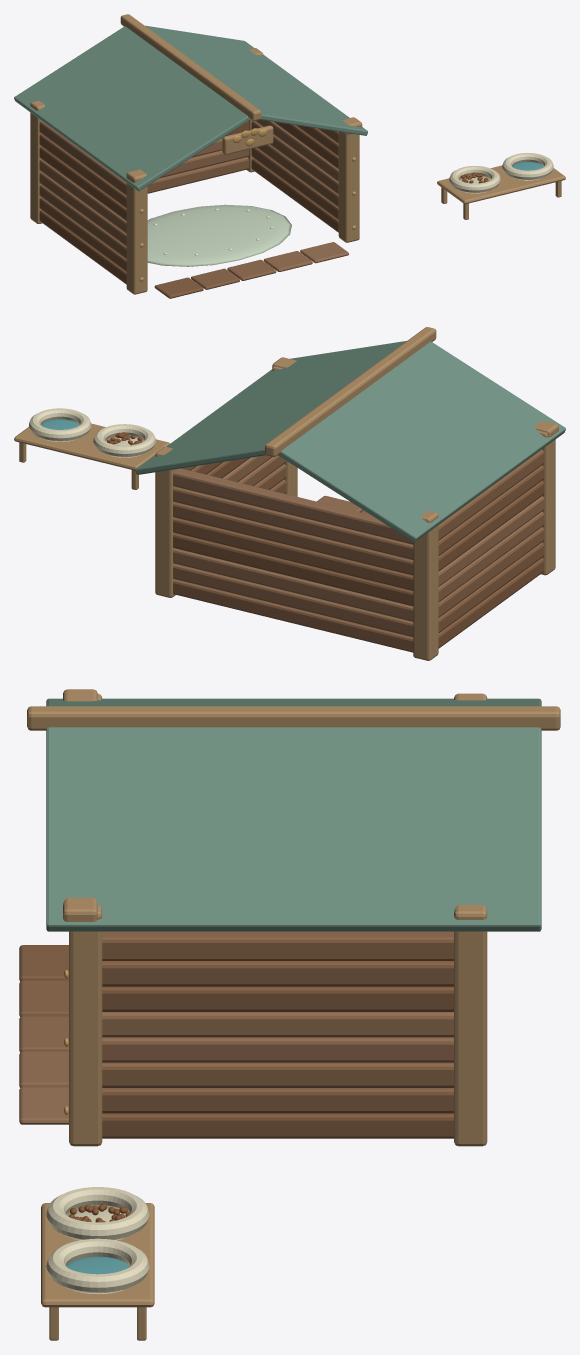
The model's file is cat-home.glb.
3 renders of one model, top to bottom at view 1: azimuth 30°, elevation 25°; view 2: azimuth 150°, elevation 25°; view 3: azimuth 270°, elevation 25°, orthographic. The views are drawn at different scales.
Parts seen in each view (by area): view 1: cat_home_sage_roof, cat_home_end_grain, cat_home_linen, cat_home_cedar_2, cat_home_cedar_0, cat_home_cedar_1, cat_home_cedar_3, cat_home_cedar_4, cat_home_glazed_cream, cat_home_brass; view 2: cat_home_sage_roof, cat_home_end_grain, cat_home_cedar_2, cat_home_cedar_4, cat_home_cedar_3, cat_home_cedar_0, cat_home_cedar_1, cat_home_glazed_cream; view 3: cat_home_sage_roof, cat_home_end_grain, cat_home_cedar_2, cat_home_cedar_1, cat_home_cedar_0, cat_home_cedar_4, cat_home_cedar_3, cat_home_glazed_cream, cat_home_water.
Part boxes in pixels (x1,y1,x2,y2): cat_home_sage_roof: (14, 25, 367, 191); cat_home_end_grain: (30, 14, 565, 294); cat_home_linen: (147, 204, 291, 266); cat_home_cedar_2: (39, 121, 338, 280); cat_home_cedar_0: (39, 121, 338, 298); cat_home_cedar_1: (39, 125, 338, 289); cat_home_cedar_3: (39, 121, 338, 271); cat_home_cedar_4: (39, 119, 348, 263); cat_home_glazed_cream: (449, 153, 553, 193); cat_home_brass: (139, 128, 355, 281); cat_home_sage_roof: (135, 341, 565, 542); cat_home_end_grain: (14, 327, 558, 660); cat_home_cedar_2: (173, 449, 544, 652); cat_home_cedar_4: (173, 455, 544, 621); cat_home_cedar_3: (173, 455, 544, 636); cat_home_cedar_0: (173, 458, 544, 648); cat_home_cedar_1: (173, 462, 544, 632); cat_home_glazed_cream: (29, 408, 155, 457); cat_home_sage_roof: (46, 698, 541, 931); cat_home_end_grain: (27, 689, 560, 1340); cat_home_cedar_2: (19, 931, 453, 1087); cat_home_cedar_1: (19, 961, 453, 1113); cat_home_cedar_0: (19, 945, 453, 1138); cat_home_cedar_4: (19, 1012, 453, 1124); cat_home_cedar_3: (19, 1037, 453, 1087); cat_home_glazed_cream: (46, 1187, 149, 1293); cat_home_water: (66, 1256, 129, 1274).
Size of the model in its own units: 5.65 by 2.1 by 3.09.
